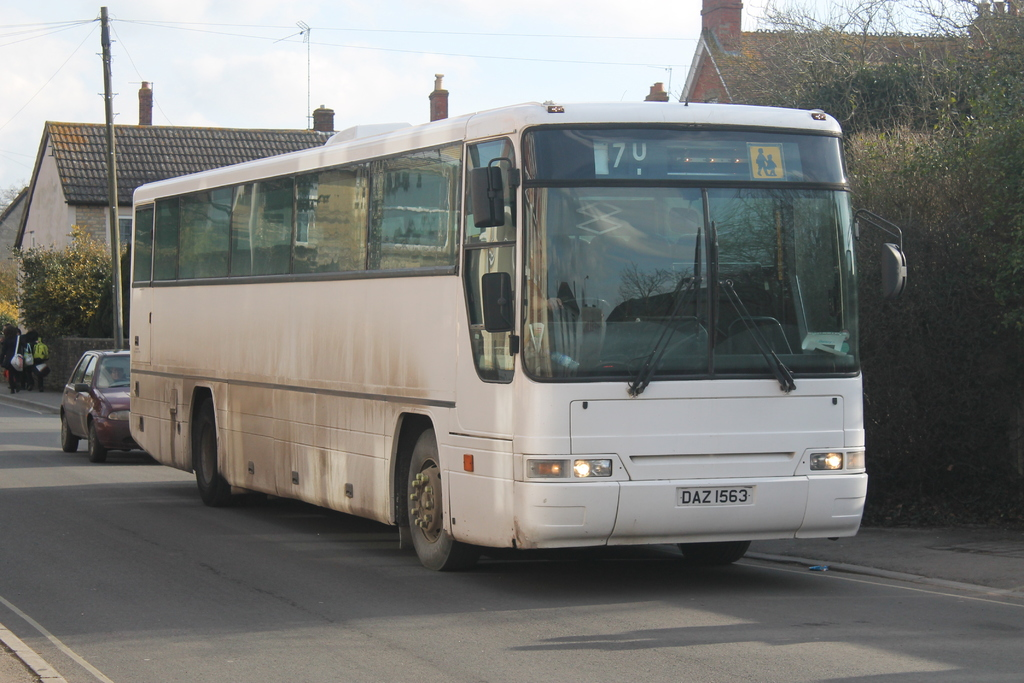mobil: (47, 340, 166, 486)
